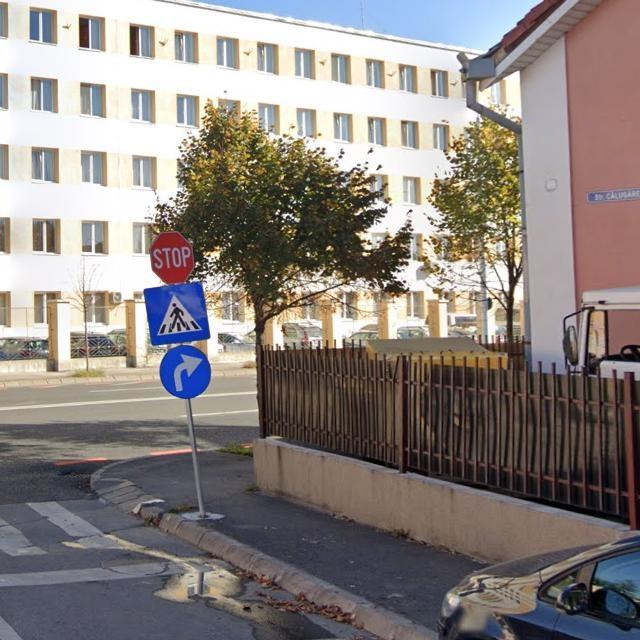info_crosswalk: (141, 285, 210, 345)
prio_stop: (150, 232, 195, 284)
